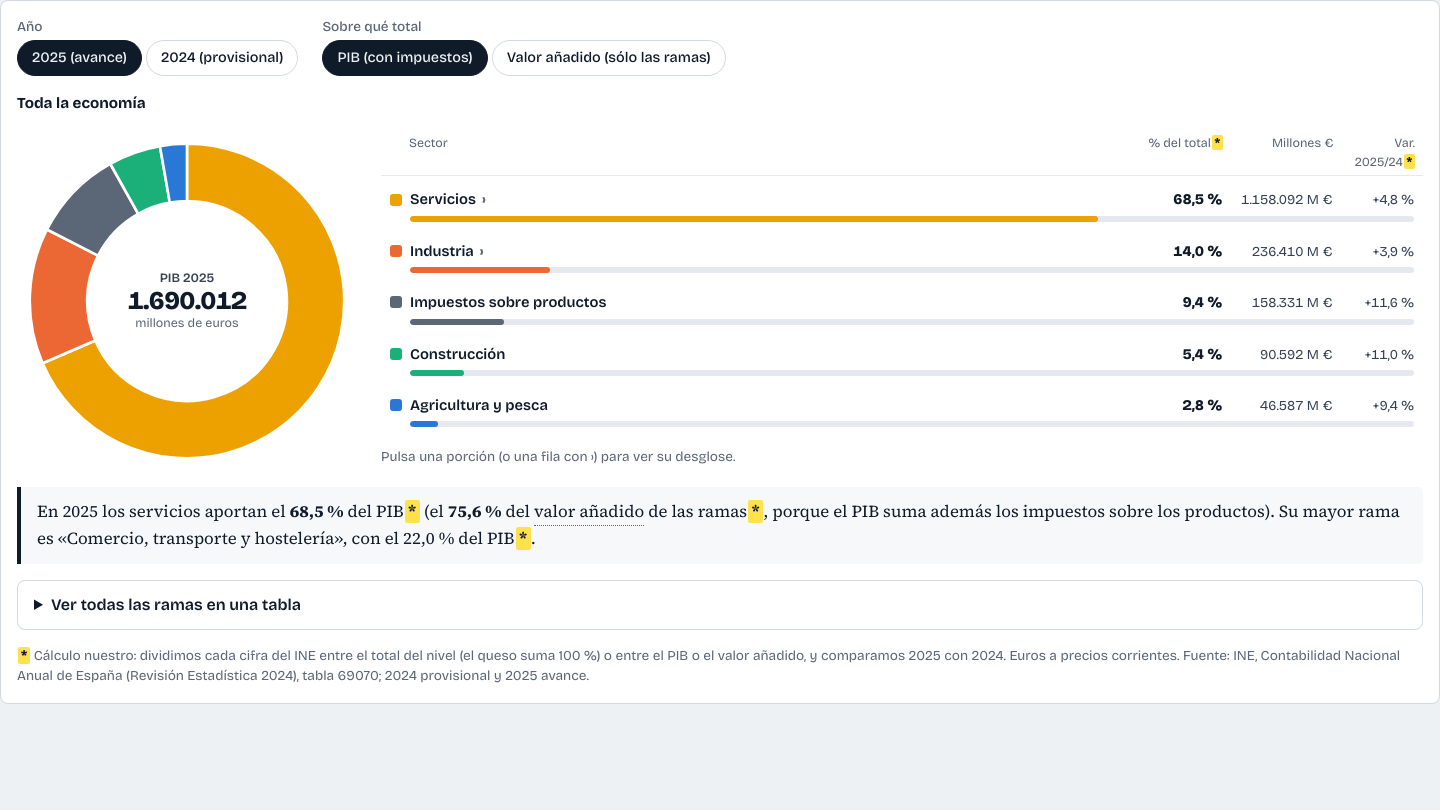
Test case: Queso del PIB por sectores › segundo nivel: comercio, transporte y hostelería se separan en tres
Click the button "Servicios› 68,5 % 1.158.092 M € +4,8 %" at (443, 199), box [381, 180, 1423, 230]
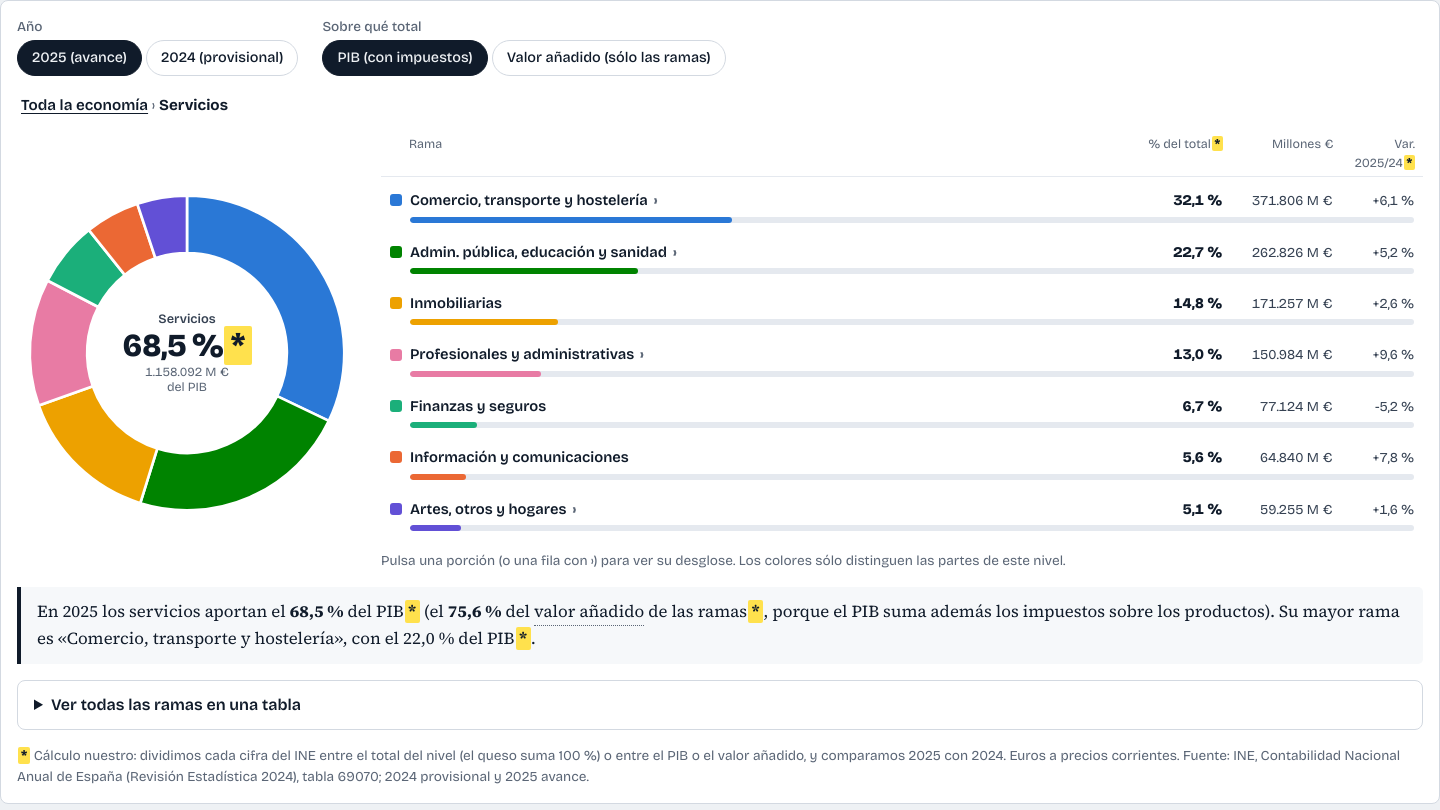
Click the button "Comercio, transporte y hostelería› 32,1 % 371.806 M € +6,1 %" at (529, 200), box [381, 181, 1423, 231]
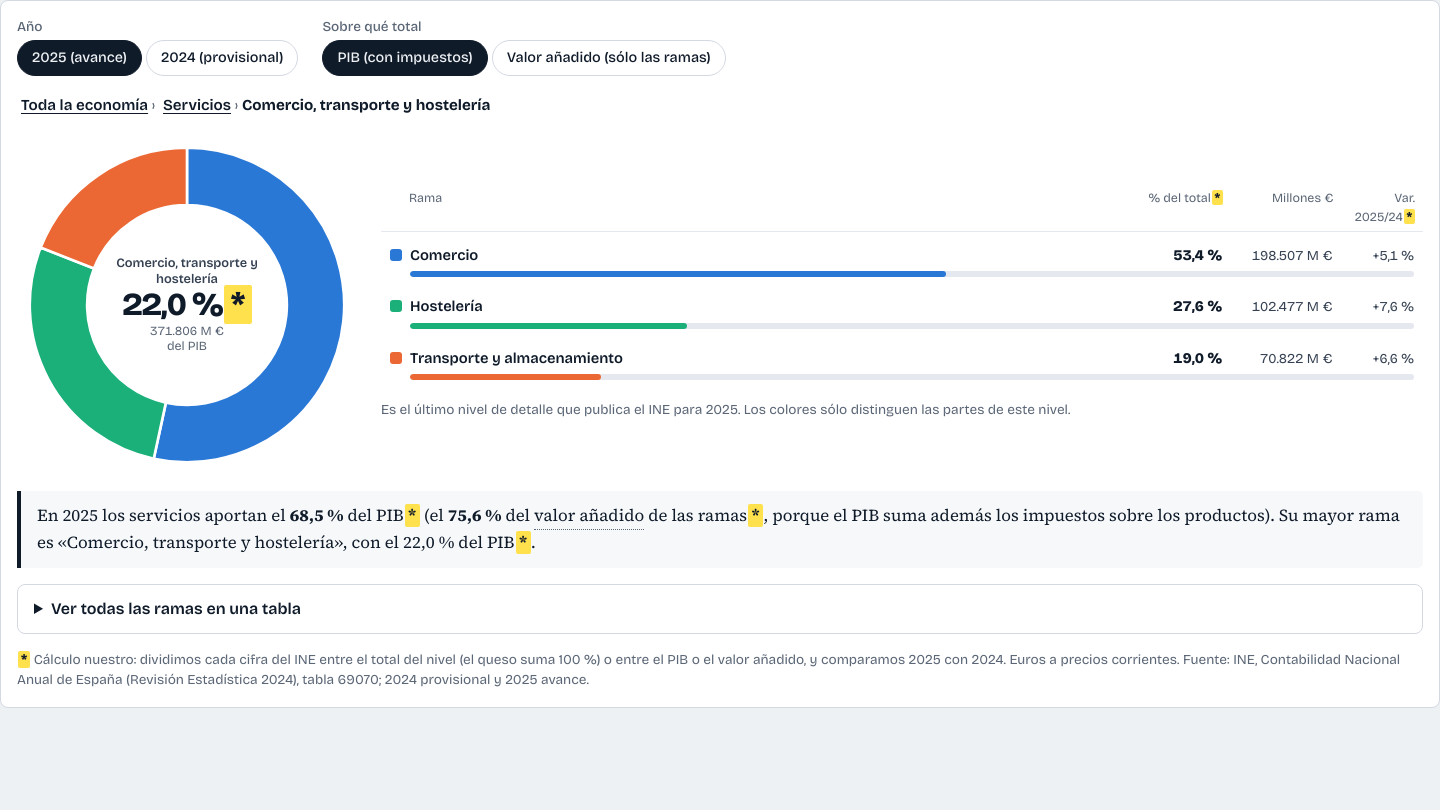
Result: the text "último nivel de detalle" is shown at [381, 401, 740, 418]
